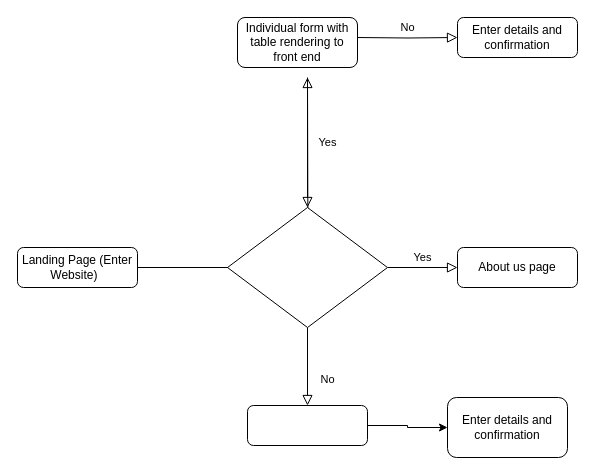
Some shapes in this 595 by 475 pixel diagram are drawn without their labels. Here are the shapes that lost their labels. From the top down, the box of each, then its label:
(226, 206, 388, 328): Main page: See baked options through visuals
(246, 404, 368, 446): Group bookings
